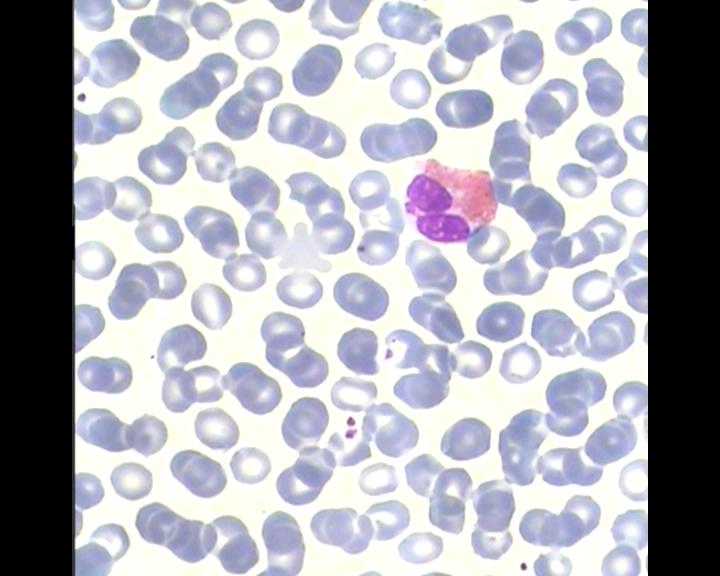eosi: (398, 149, 502, 246)
